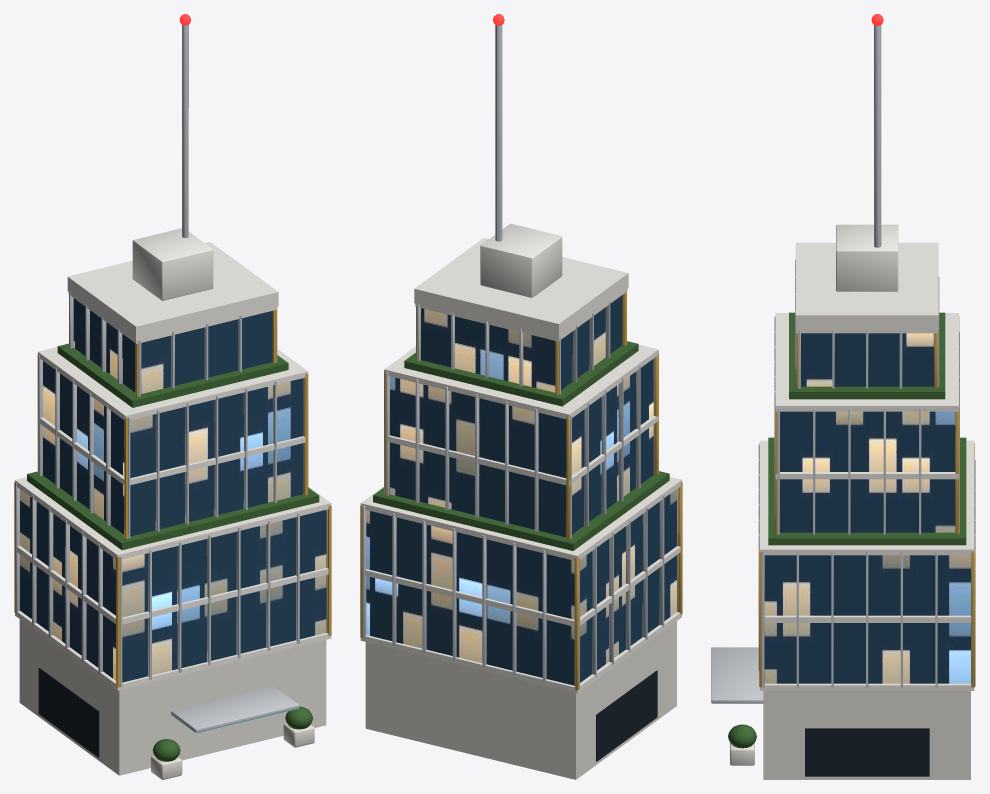
Rendered from nexus-civic-c.glb.
The picture shows the model from 3 angles, left to right: view 1: azimuth 30°, elevation 25°; view 2: azimuth 150°, elevation 25°; view 3: azimuth 270°, elevation 25°; orthographic projection. The views are drawn at different scales.
Parts seen in each view (by area): view 1: Building; view 2: Building; view 3: Building.
Part boxes in pixels (x1,y1,x2,y2): Building: (14, 14, 331, 779); Building: (360, 14, 682, 779); Building: (711, 14, 975, 779).
Size of the model in its own units: 12.44 by 38.3 by 12.72.
